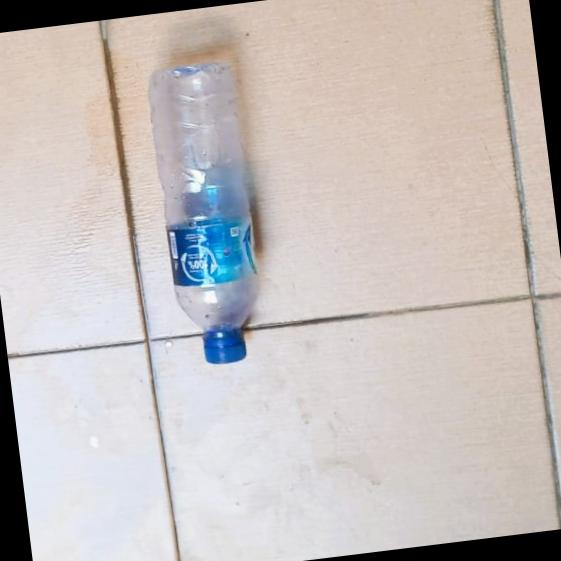Plastik: (142, 56, 270, 369)
